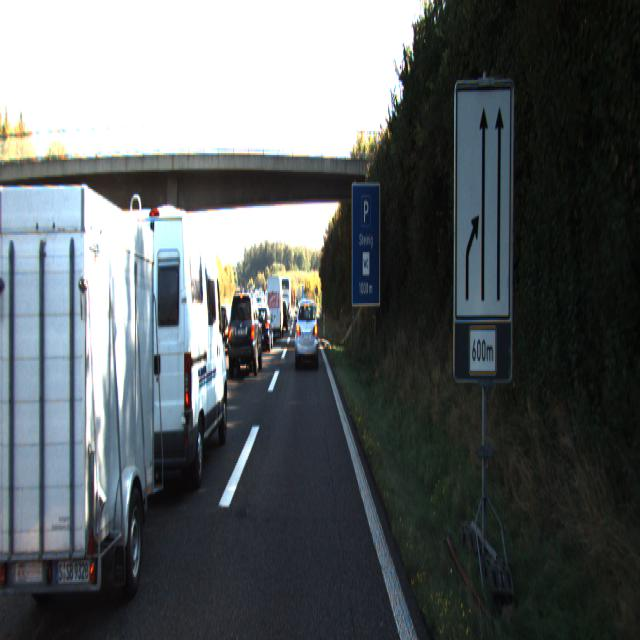Car: (0, 179, 168, 638), (115, 205, 231, 505), (228, 291, 262, 380), (295, 295, 318, 367), (266, 272, 284, 336), (254, 303, 274, 351)
